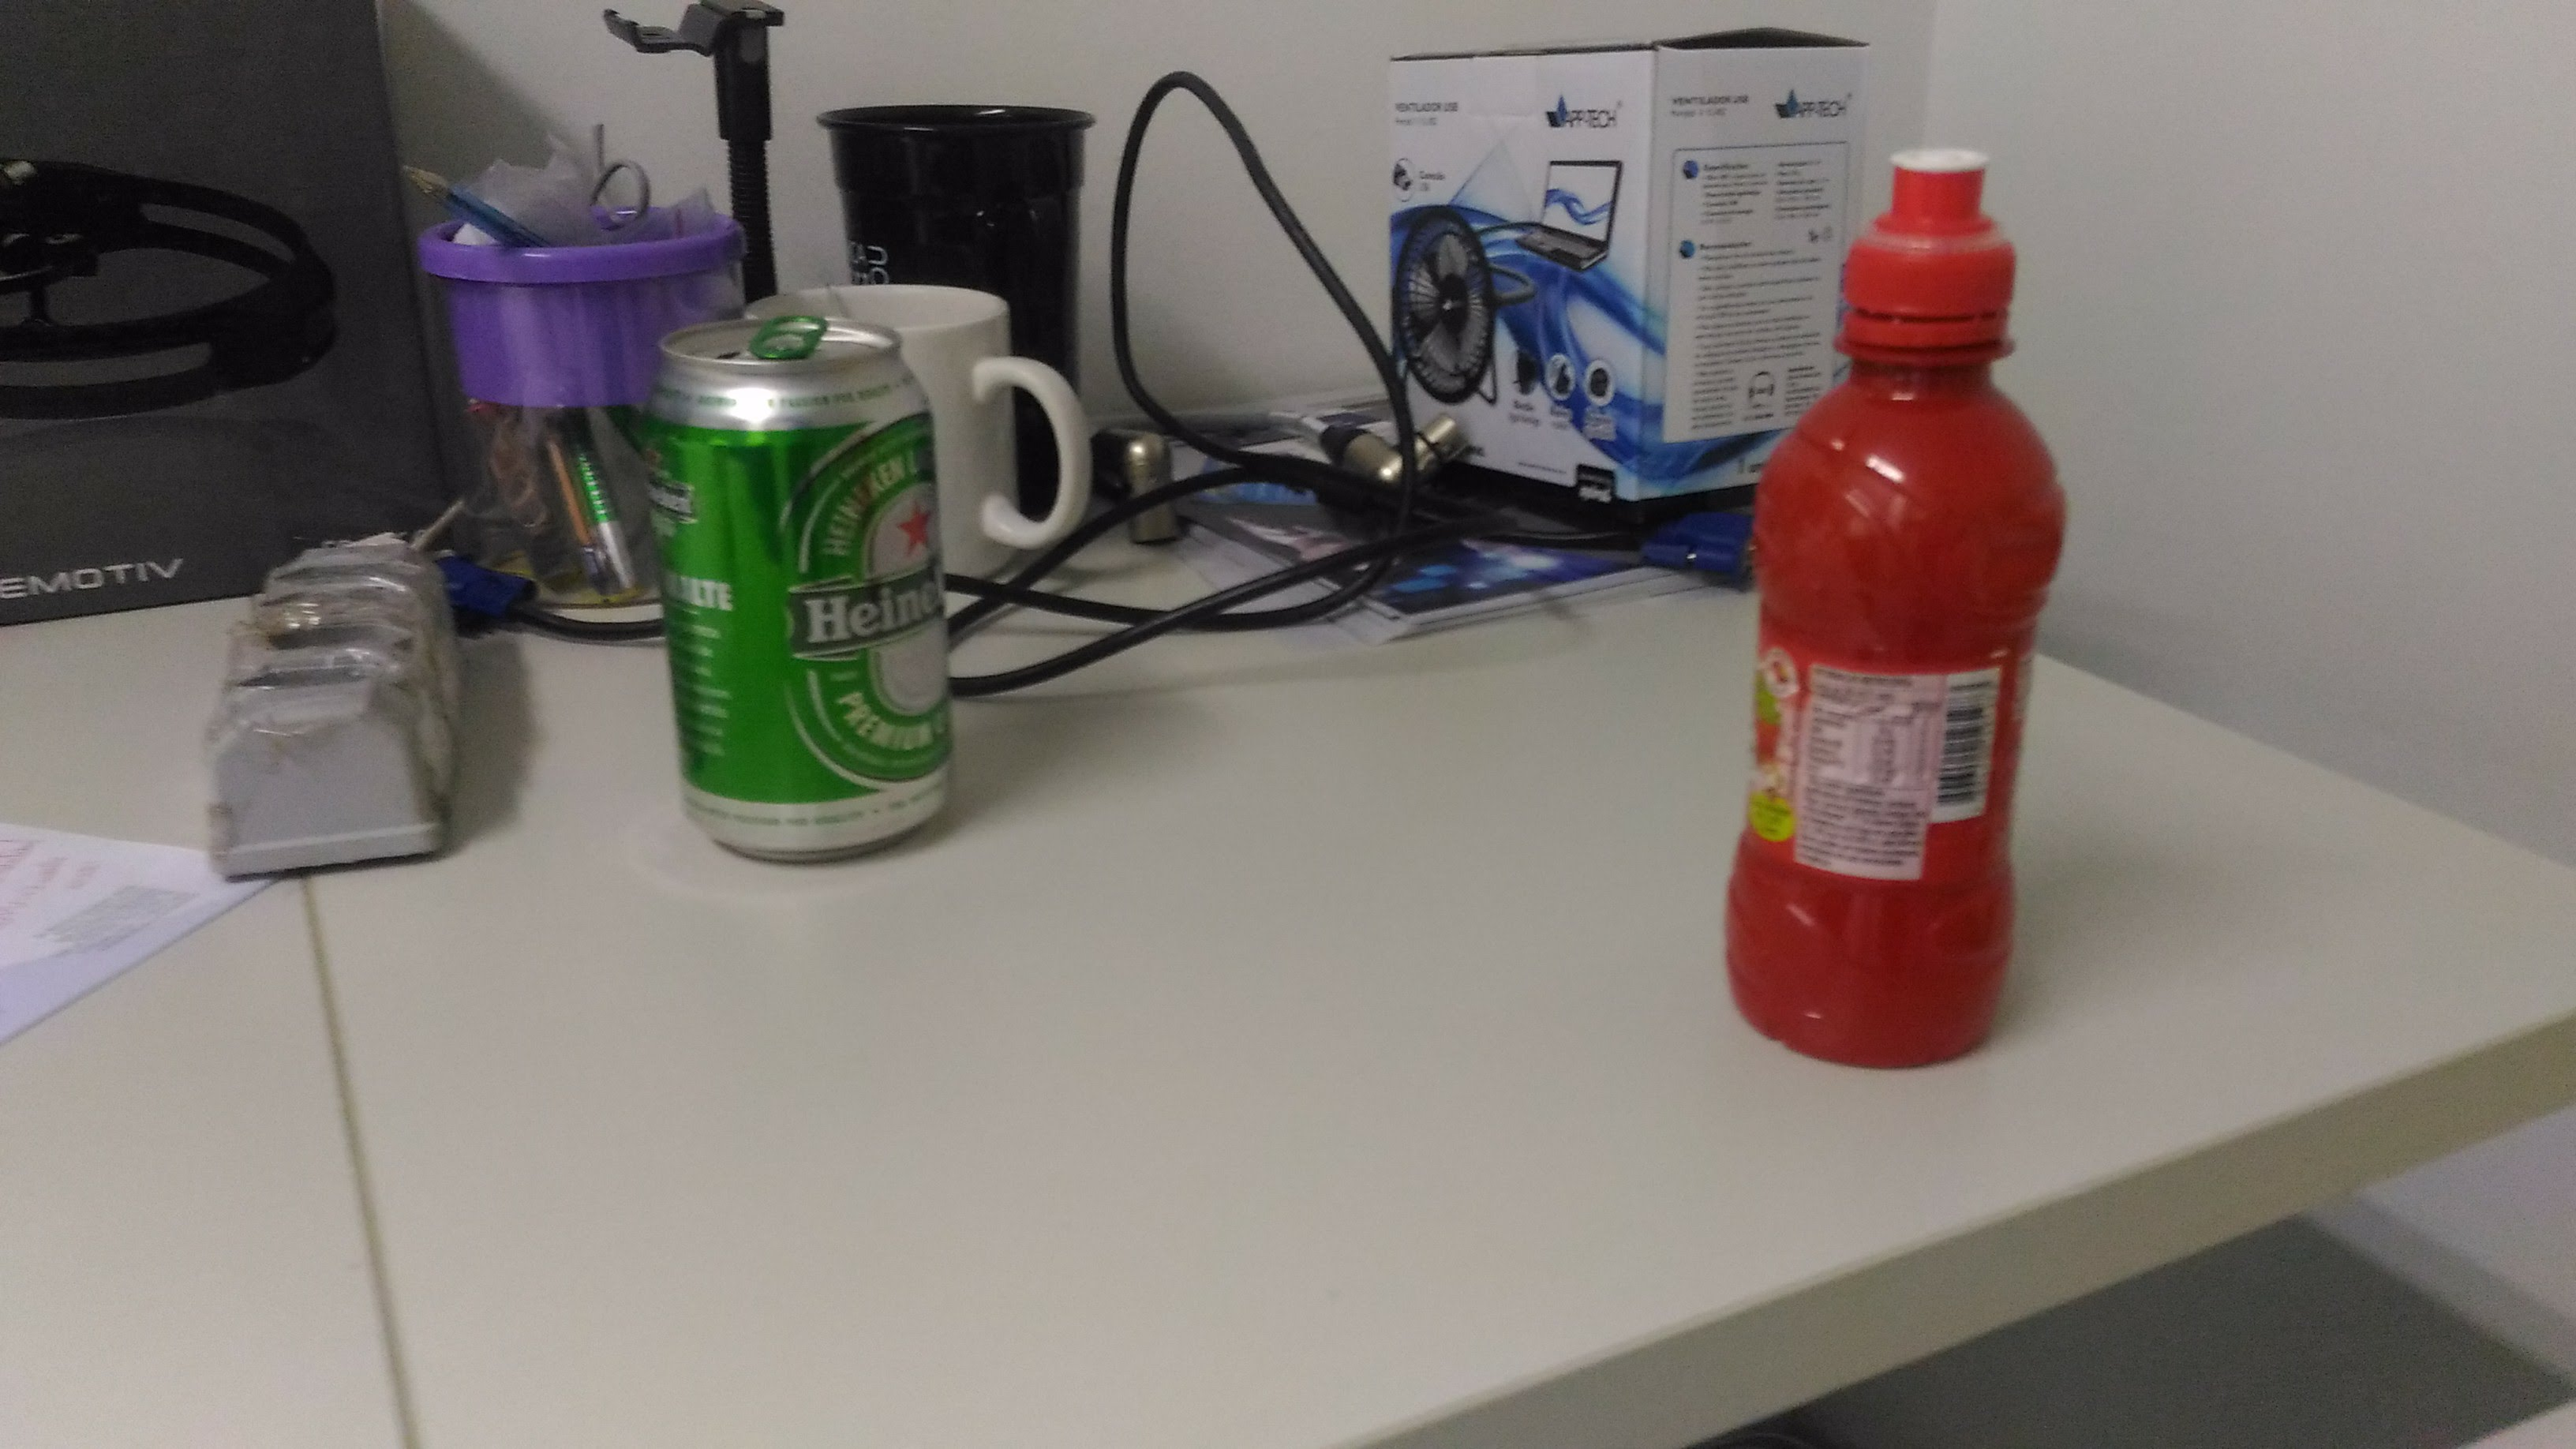heineken: (656, 317, 959, 865)
red_juice: (1720, 143, 2077, 1086)
